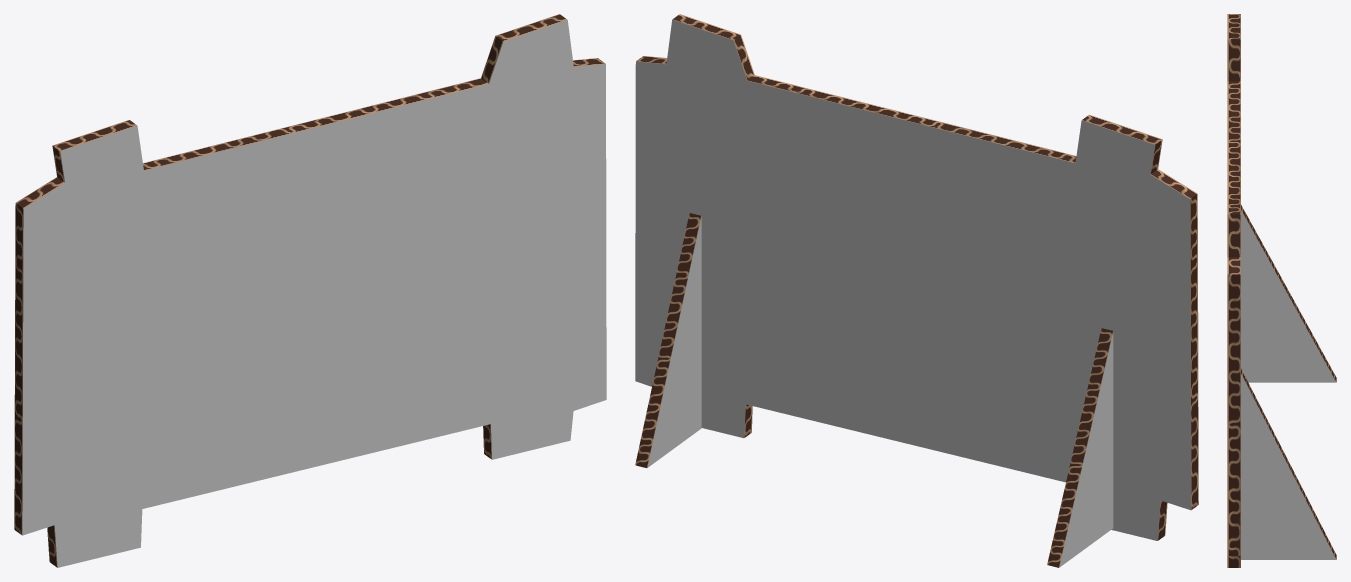
Rendered from BariereSmall.fbx.
3 views of the same model, side by side, from view 1: azimuth 30°, elevation 25°; view 2: azimuth 150°, elevation 25°; view 3: azimuth 270°, elevation 25° (orthographic). The views are drawn at different scales.
Parts seen in each view (by area): view 1: BariereSmall_LOD0; view 2: BariereSmall_LOD0; view 3: BariereSmall_LOD0.
Boxes of the visible parts, bbox=[...] form: BariereSmall_LOD0: bbox=[14, 14, 606, 567]; BariereSmall_LOD0: bbox=[635, 14, 1198, 567]; BariereSmall_LOD0: bbox=[1227, 14, 1336, 567].
Size of the model in its own units: 500 by 346 by 96.62.
